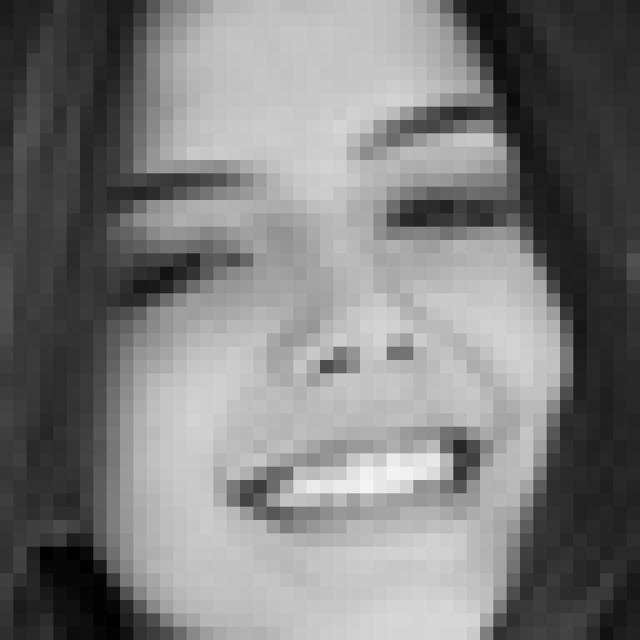happy: (88, 93, 521, 557)
